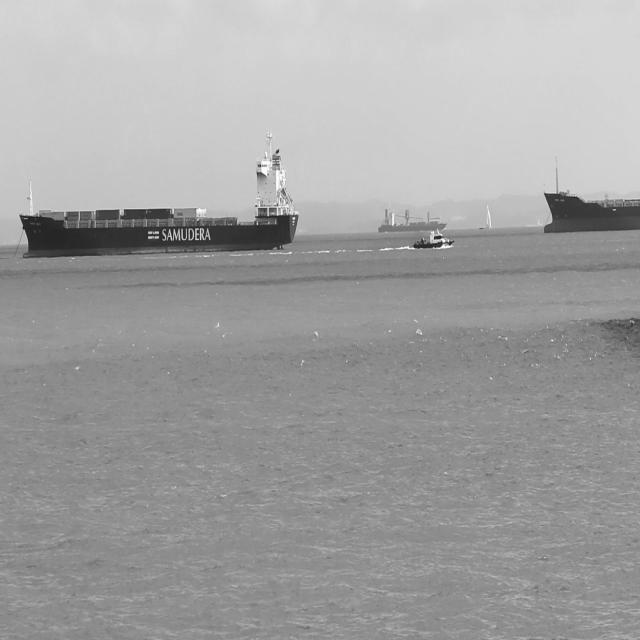boat: (484, 204, 493, 230)
ship: (19, 129, 299, 259), (542, 158, 639, 234), (377, 206, 448, 233), (412, 228, 454, 250), (477, 225, 486, 230)
